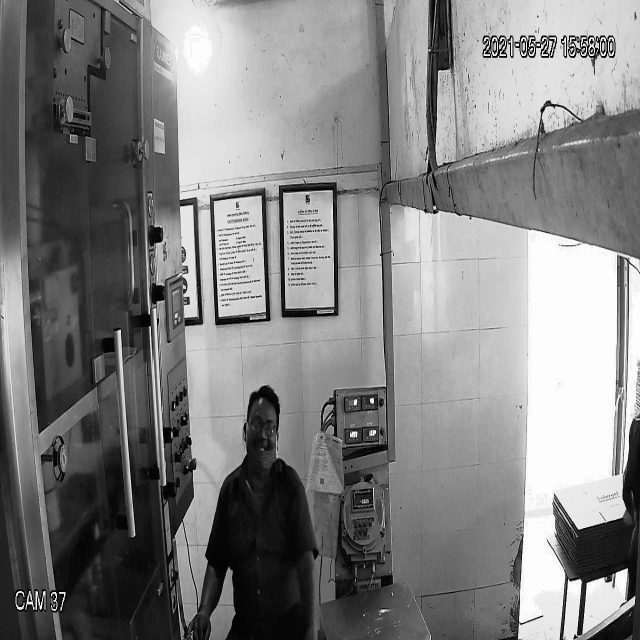Gafas: (240, 409, 283, 443)
